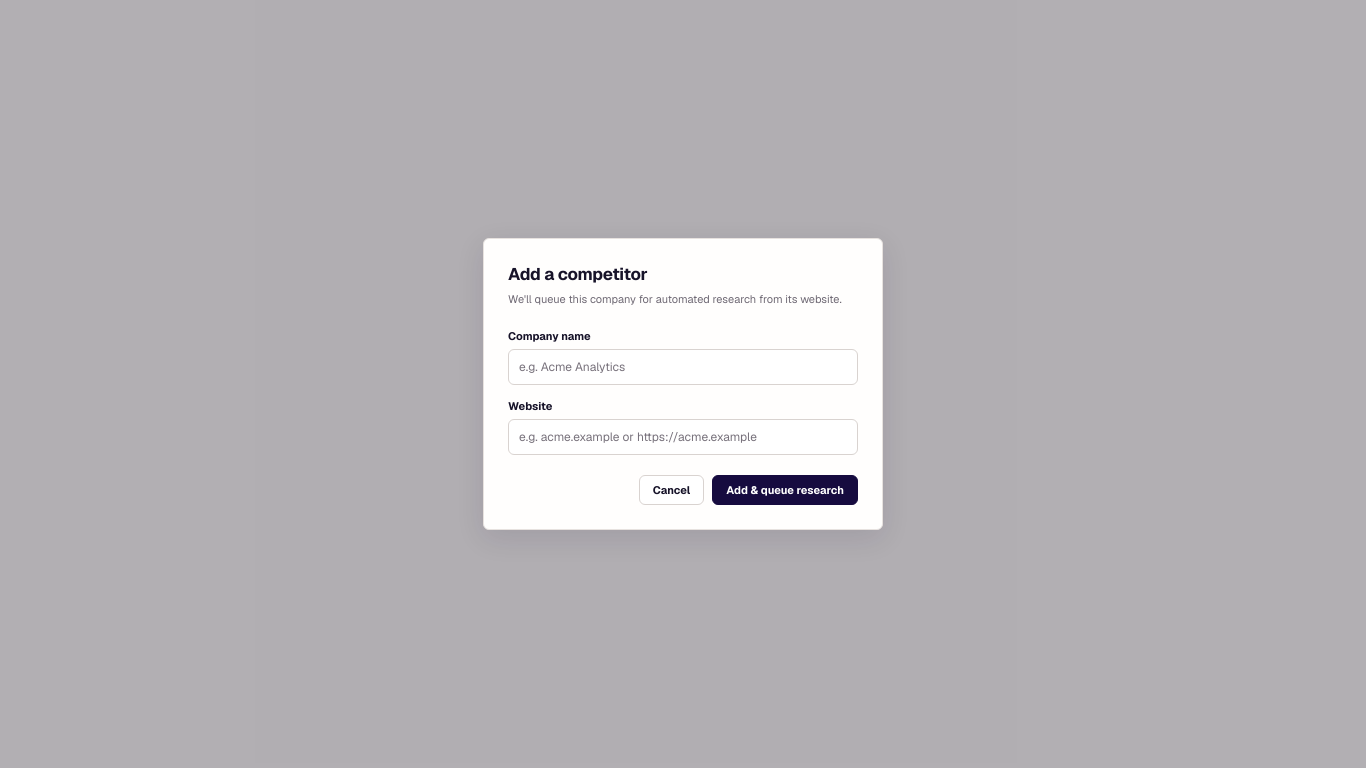
Test case: AddCompetitorModal › shows the backend's reason when a competitor is rejected
Type "Acme" into the field labelled "Company name".
click(683, 367); type("Acme")  # box [508,349,858,385]
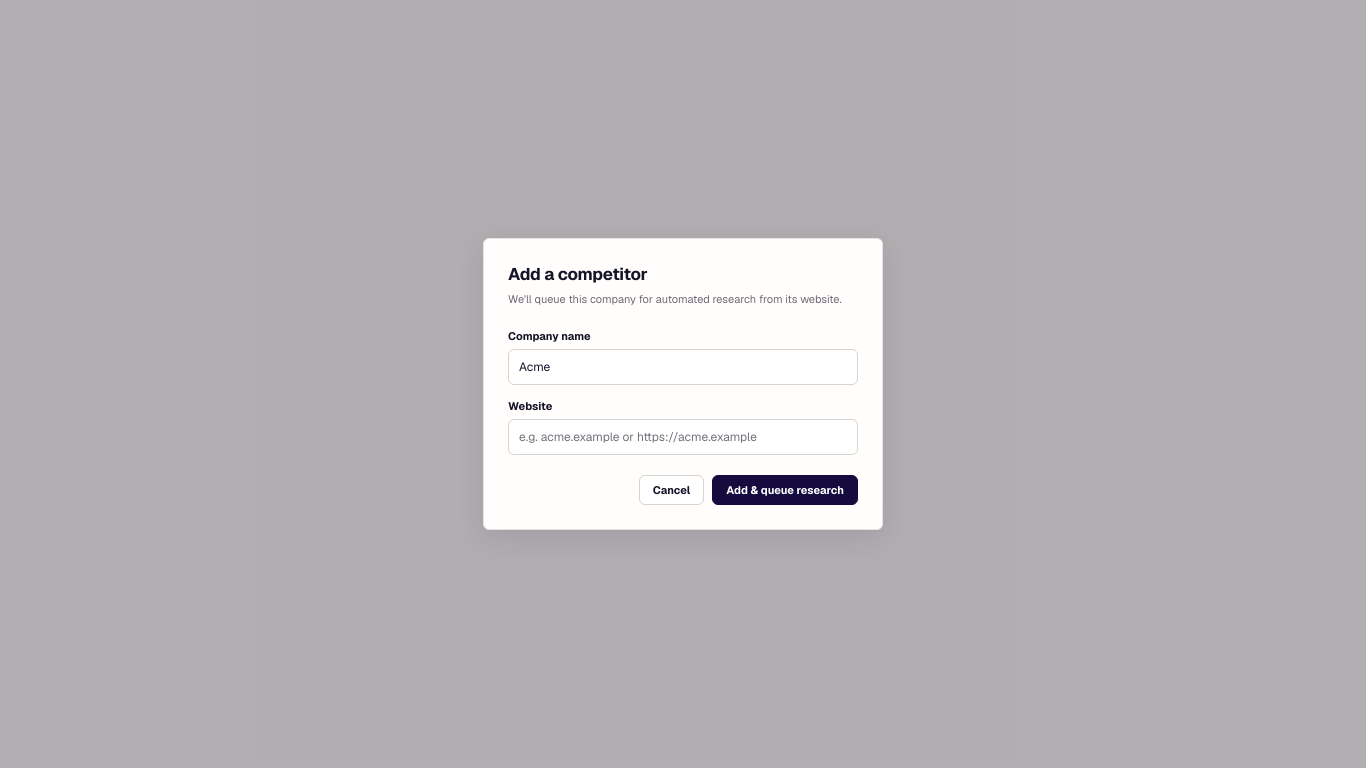
Type "acme.example" into the field labelled "Website".
click(683, 437); type("acme.example")  # box [508,419,858,455]
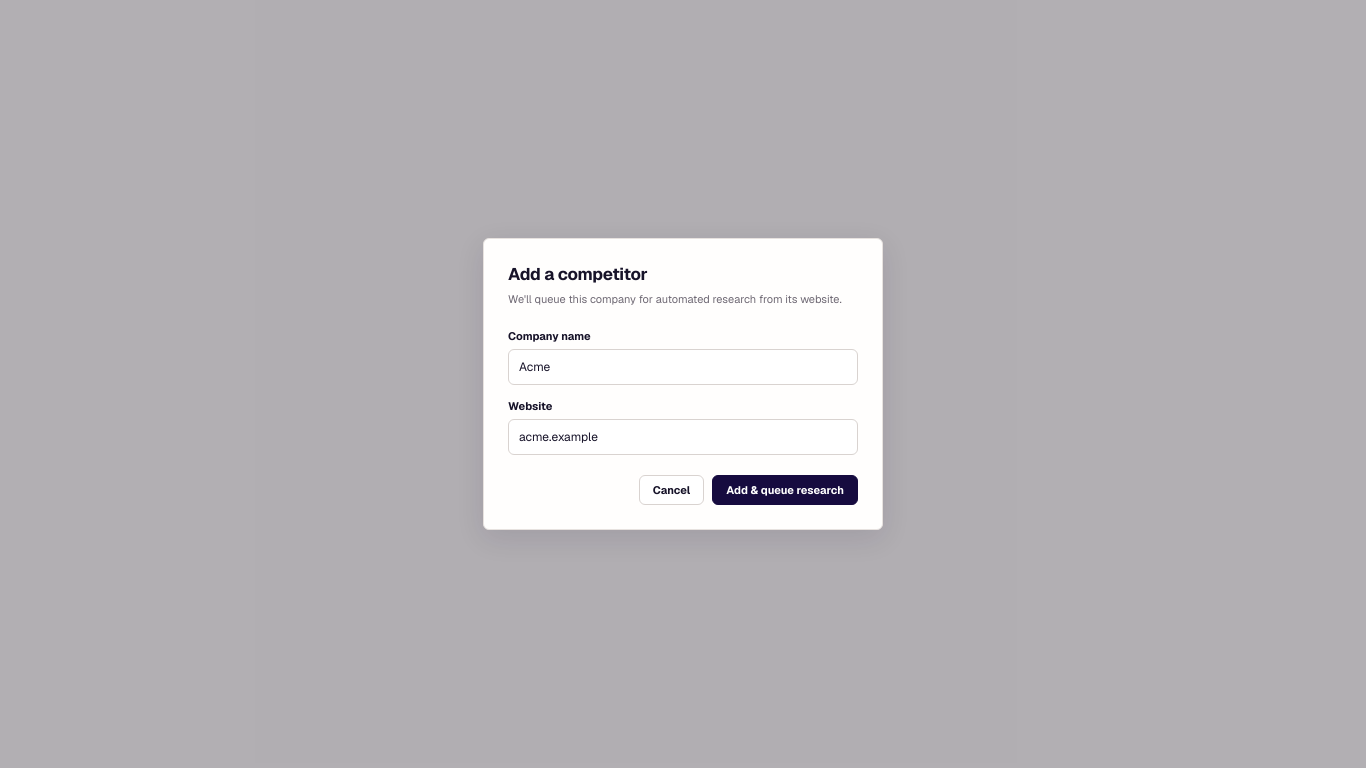
Click the button "Add & queue research".
click(785, 490)  # box [712,475,858,505]
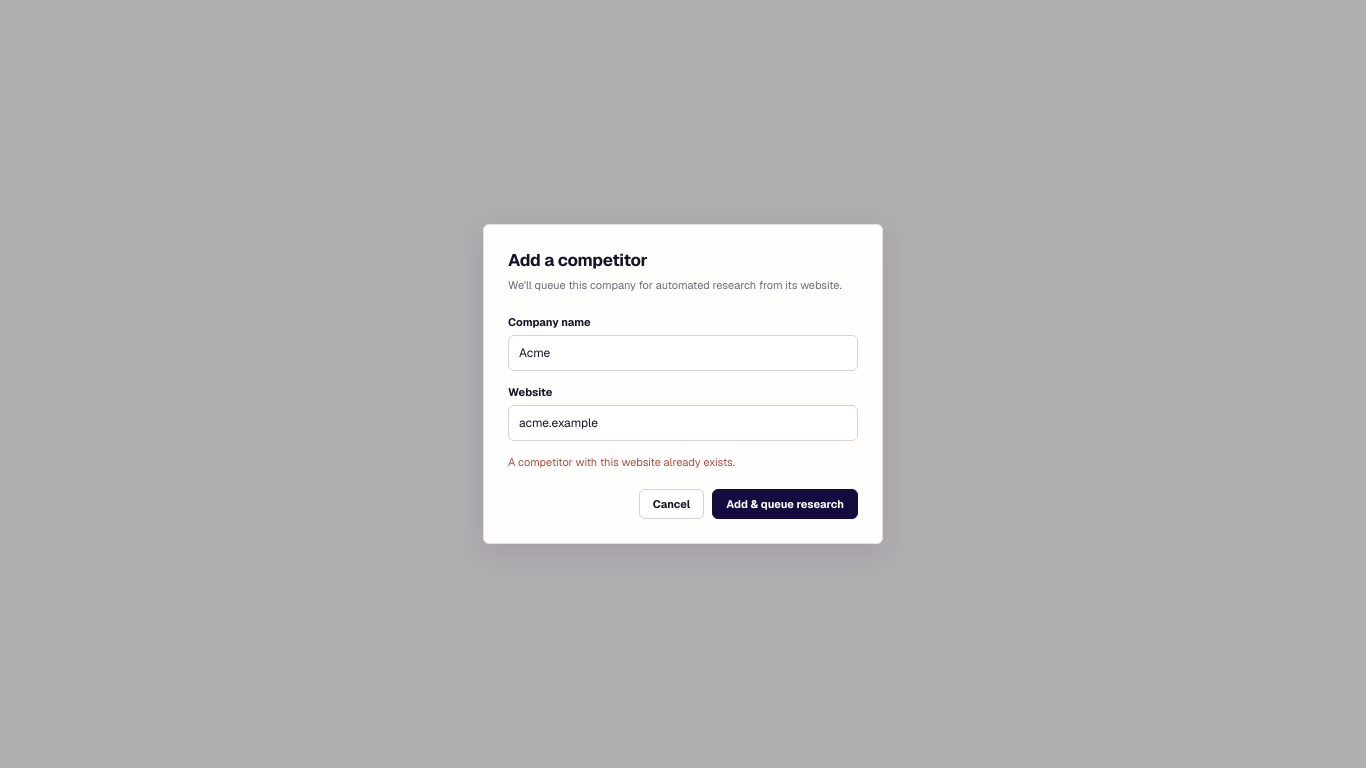
Result: the text "A competitor with this website already exists." is shown at [508,455,735,469]
